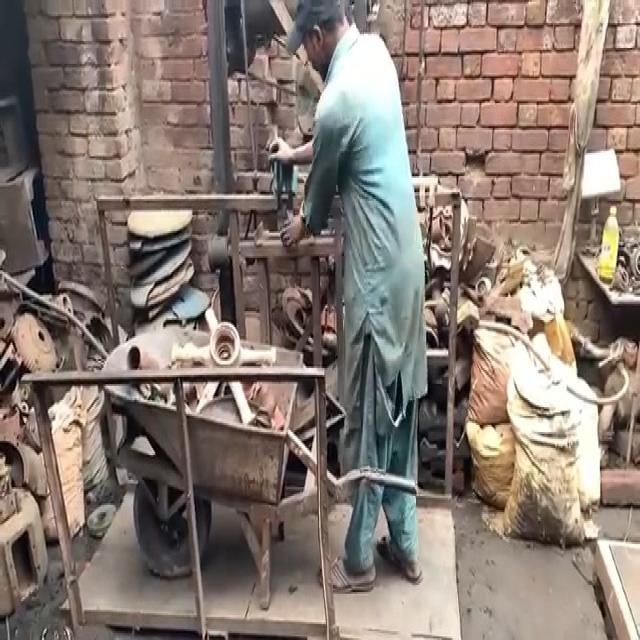dress: (301, 19, 428, 570)
